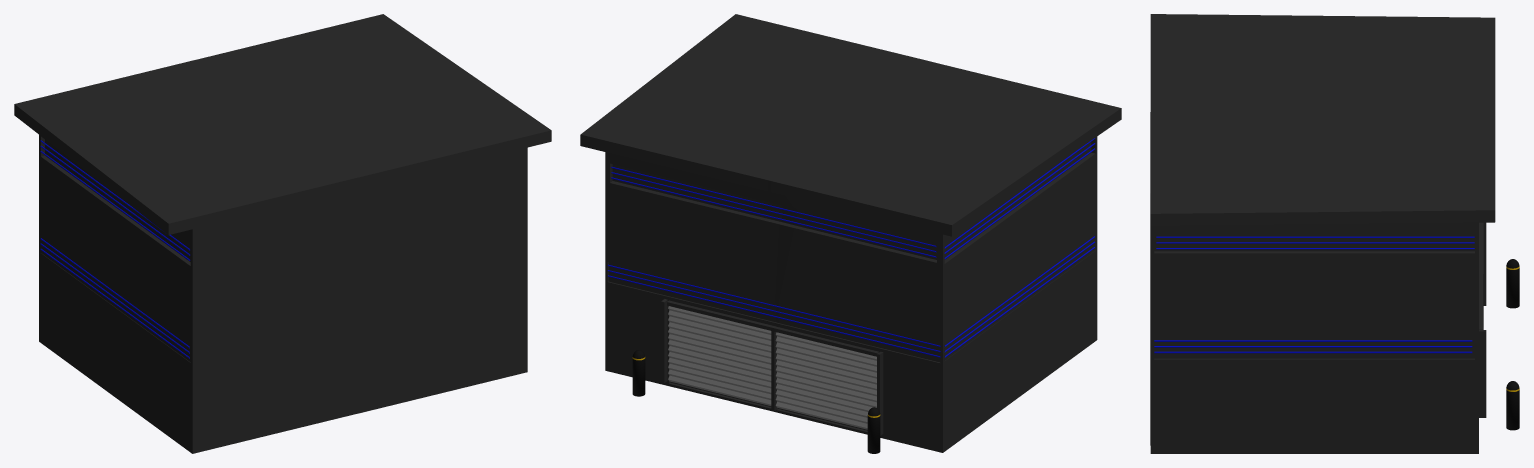
Rendered from bigger-garage.obj.
The picture shows the model from 3 angles, left to right: view 1: azimuth 30°, elevation 25°; view 2: azimuth 150°, elevation 25°; view 3: azimuth 270°, elevation 25°; orthographic projection. The views are drawn at different scales.
Visible parts, largest first — view 1: Cube.049_Cube.085, Vert.250_Vert.262, Vert.246_Vert.258; view 2: Cube.049_Cube.085, Plane.035_Plane.064, Plane.034_Plane.063, Vert.245_Vert.257, Vert.249_Vert.261, Sphere.001, Vert.250_Vert.262, Vert.246_Vert.258; view 3: Cube.049_Cube.085, Vert.247_Vert.259, Vert.248_Vert.260, Sphere.001.
Boxes of the visible parts, x1,y1,x2,y2 form: Cube.049_Cube.085: [14, 14, 551, 453]; Vert.250_Vert.262: [40, 238, 189, 358]; Vert.246_Vert.258: [40, 140, 190, 260]; Cube.049_Cube.085: [580, 14, 1121, 452]; Plane.035_Plane.064: [668, 306, 771, 405]; Plane.034_Plane.063: [775, 332, 876, 429]; Vert.245_Vert.257: [607, 264, 940, 357]; Vert.249_Vert.261: [611, 167, 936, 257]; Sphere.001: [632, 350, 880, 453]; Vert.250_Vert.262: [944, 236, 1095, 357]; Vert.246_Vert.258: [944, 138, 1095, 258]; Cube.049_Cube.085: [1150, 14, 1495, 453]; Vert.247_Vert.259: [1154, 340, 1472, 353]; Vert.248_Vert.260: [1156, 236, 1474, 249]; Sphere.001: [1506, 259, 1519, 430].
Size of the model in its own units: 18.28 by 10.77 by 14.27.
